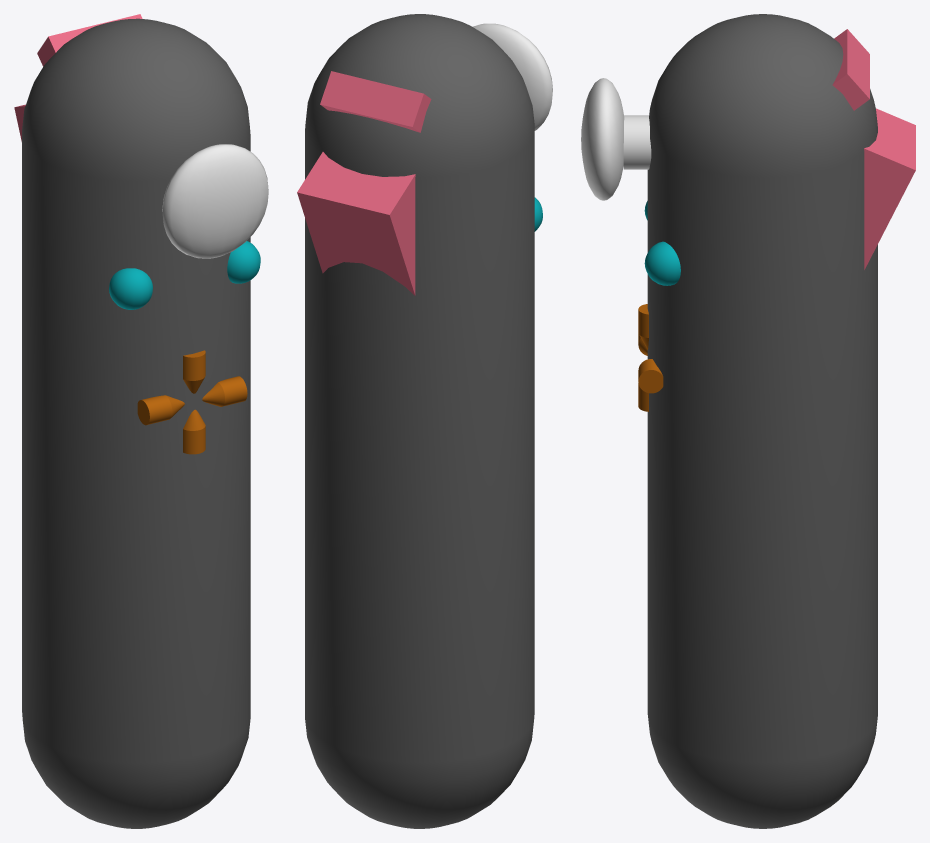
The model's file is wandaid-orig.fbx.
3 renders of one model, left to right at view 1: azimuth 30°, elevation 25°; view 2: azimuth 150°, elevation 25°; view 3: azimuth 270°, elevation 25°, orthographic.
Parts seen in each view (by area): view 1: Capsule, Ball.2, Ball.1, Ball, Cylinder.1.3, Box.1, Cylinder.1.1, Cylinder.1.2, Cylinder.1; view 2: Capsule, Box, Box.1, Ball.2; view 3: Capsule, Box, Ball.2, Box.1, Cylinder, Ball, Cylinder.1.2.
Boxes of the visible parts, x1=… form: Capsule: x1=22, y1=18, x2=250, y2=828; Ball.2: x1=162, y1=144, x2=268, y2=258; Ball.1: x1=109, y1=268, x2=152, y2=309; Ball: x1=227, y1=241, x2=260, y2=283; Cylinder.1.3: x1=137, y1=395, x2=172, y2=425; Box.1: x1=37, y1=14, x2=142, y2=66; Cylinder.1.1: x1=183, y1=350, x2=205, y2=380; Cylinder.1.2: x1=218, y1=376, x2=247, y2=406; Cylinder.1: x1=183, y1=426, x2=205, y2=454; Capsule: x1=305, y1=14, x2=534, y2=828; Box: x1=297, y1=152, x2=415, y2=295; Box.1: x1=320, y1=71, x2=431, y2=132; Ball.2: x1=472, y1=23, x2=552, y2=130; Capsule: x1=647, y1=14, x2=877, y2=828; Box: x1=864, y1=108, x2=915, y2=269; Ball.2: x1=581, y1=78, x2=624, y2=200; Box.1: x1=832, y1=29, x2=869, y2=110; Cylinder: x1=623, y1=115, x2=651, y2=169; Ball: x1=644, y1=241, x2=680, y2=285; Cylinder.1.2: x1=638, y1=359, x2=663, y2=393.
Bounding box in the file's own units: 0.05 × 0.19 × 0.0727.
